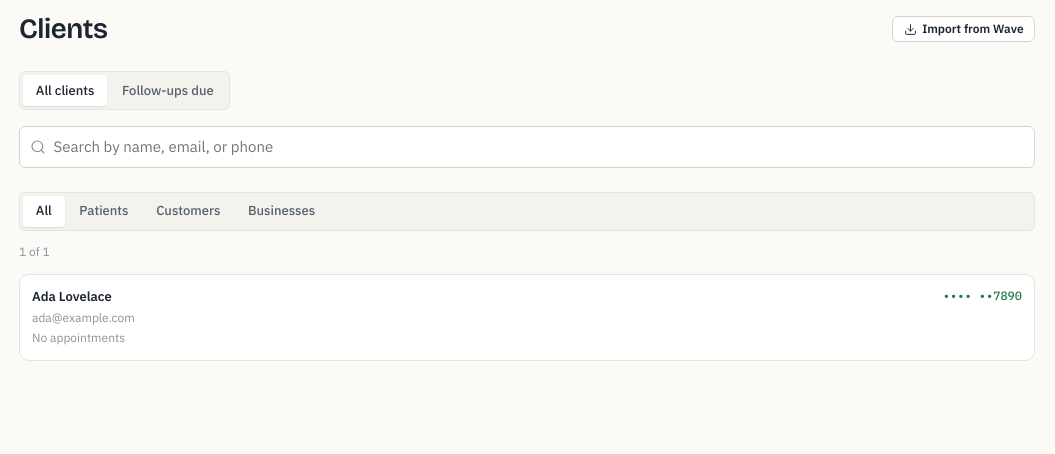
Test: Patients › reports when a search matches nobody
Expected: the text "Ada Lovelace" is shown, [32,288,112,304]
Type "zzz" into the search field named "Search clients".
click(527, 147); type("zzz")  # box [19,126,1035,168]
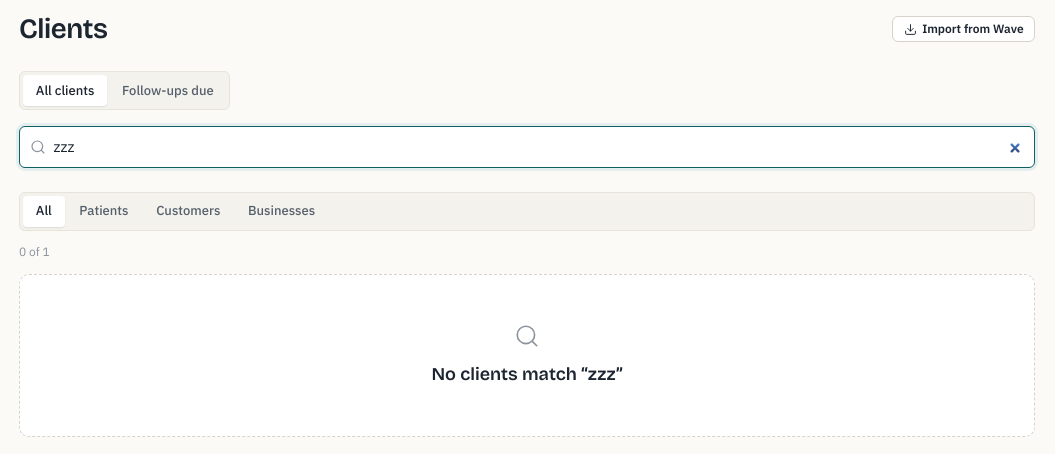
Now the text "No clients match “zzz”" is shown, box [431,360,623,388]
